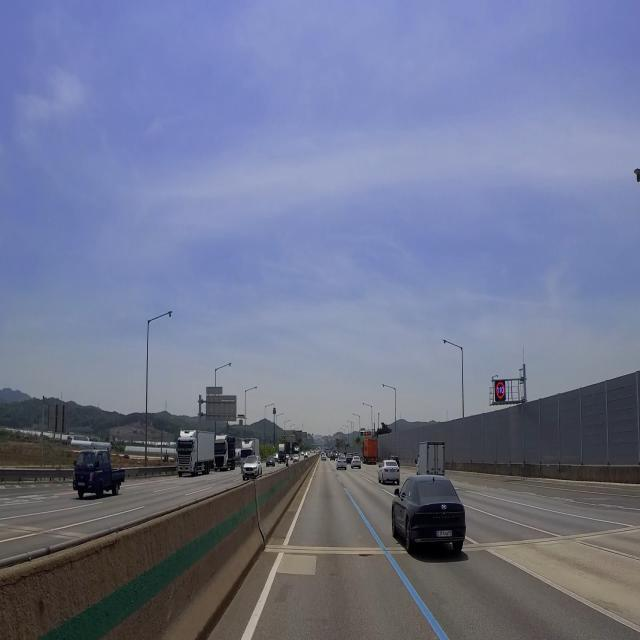car: (435, 529, 455, 540), (243, 468, 257, 483), (388, 466, 399, 477), (75, 481, 85, 492)
